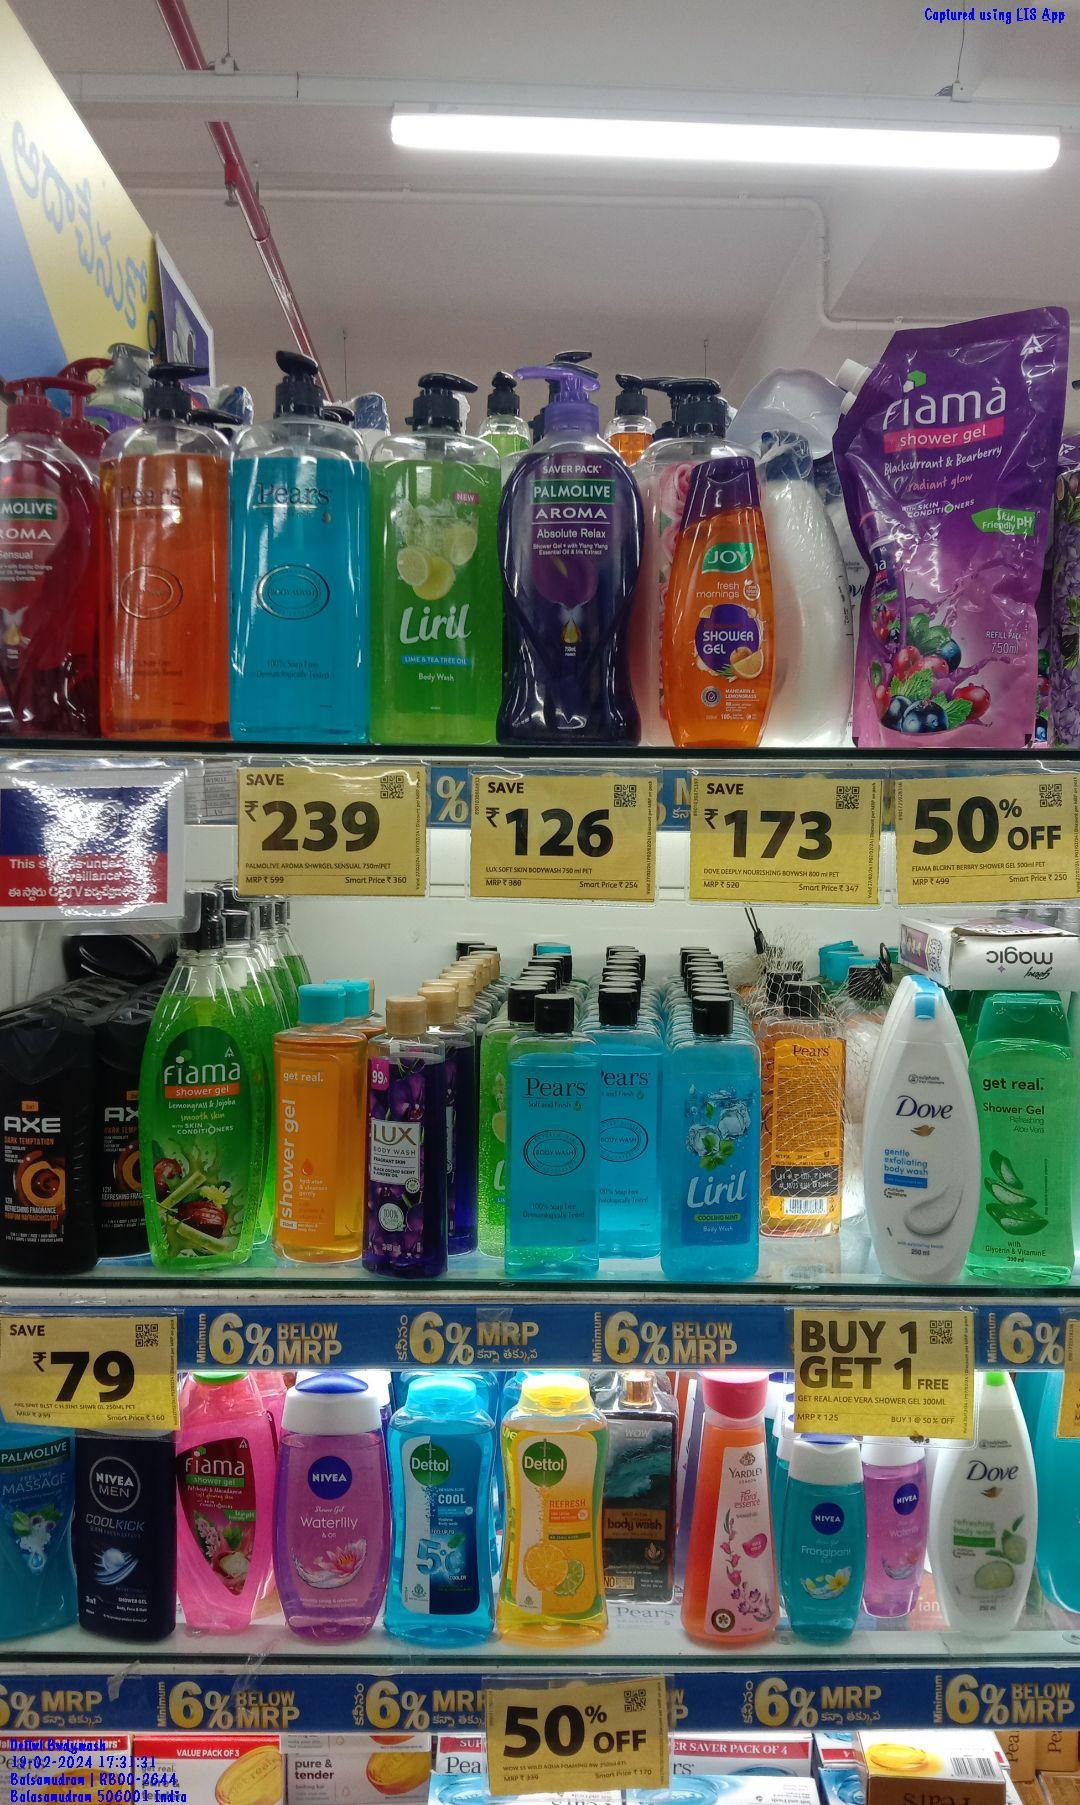Dettol_Bodywash_Cool: (393, 1373, 495, 1643)
Dettol_Bodywash_Refresh: (503, 1370, 608, 1643)
Dove_Gentle_Exfoliating_Body_Wash_250ML: (859, 973, 984, 1282)
Dove_Refreshing_Body_Wash_250ML: (936, 1442, 1038, 1635)
Fiama_Shower_Gel_Patchouli_and_Macadamia_250ML: (181, 1367, 274, 1643)
Joy_Shower_Gel_Mandarin_and_Lemongrass_250ML: (670, 453, 770, 750)
Liril_Cooling_Mint_Body_Wash_250ML: (662, 987, 760, 1282)
Lux_Black_Orchid_Scent_and_Juniper_Oil_Body_Wash_245ML: (360, 994, 450, 1278)
Nivea_Shower_Gel_Frangipani_and_Oil_250ML: (783, 1432, 867, 1646)
Nivea_Shower_Gel_Waterlily_and_Oil_250ML: (278, 1368, 388, 1644), (869, 1437, 930, 1620)
Palmolive_Aroma_Moments_Feel_The_Massage_Shower_Gel_250ML: (1, 1421, 80, 1638)
Pears_Pure_Glycerin_and_Mint_Extracts_Body_Wash_250ML: (508, 990, 598, 1275)
